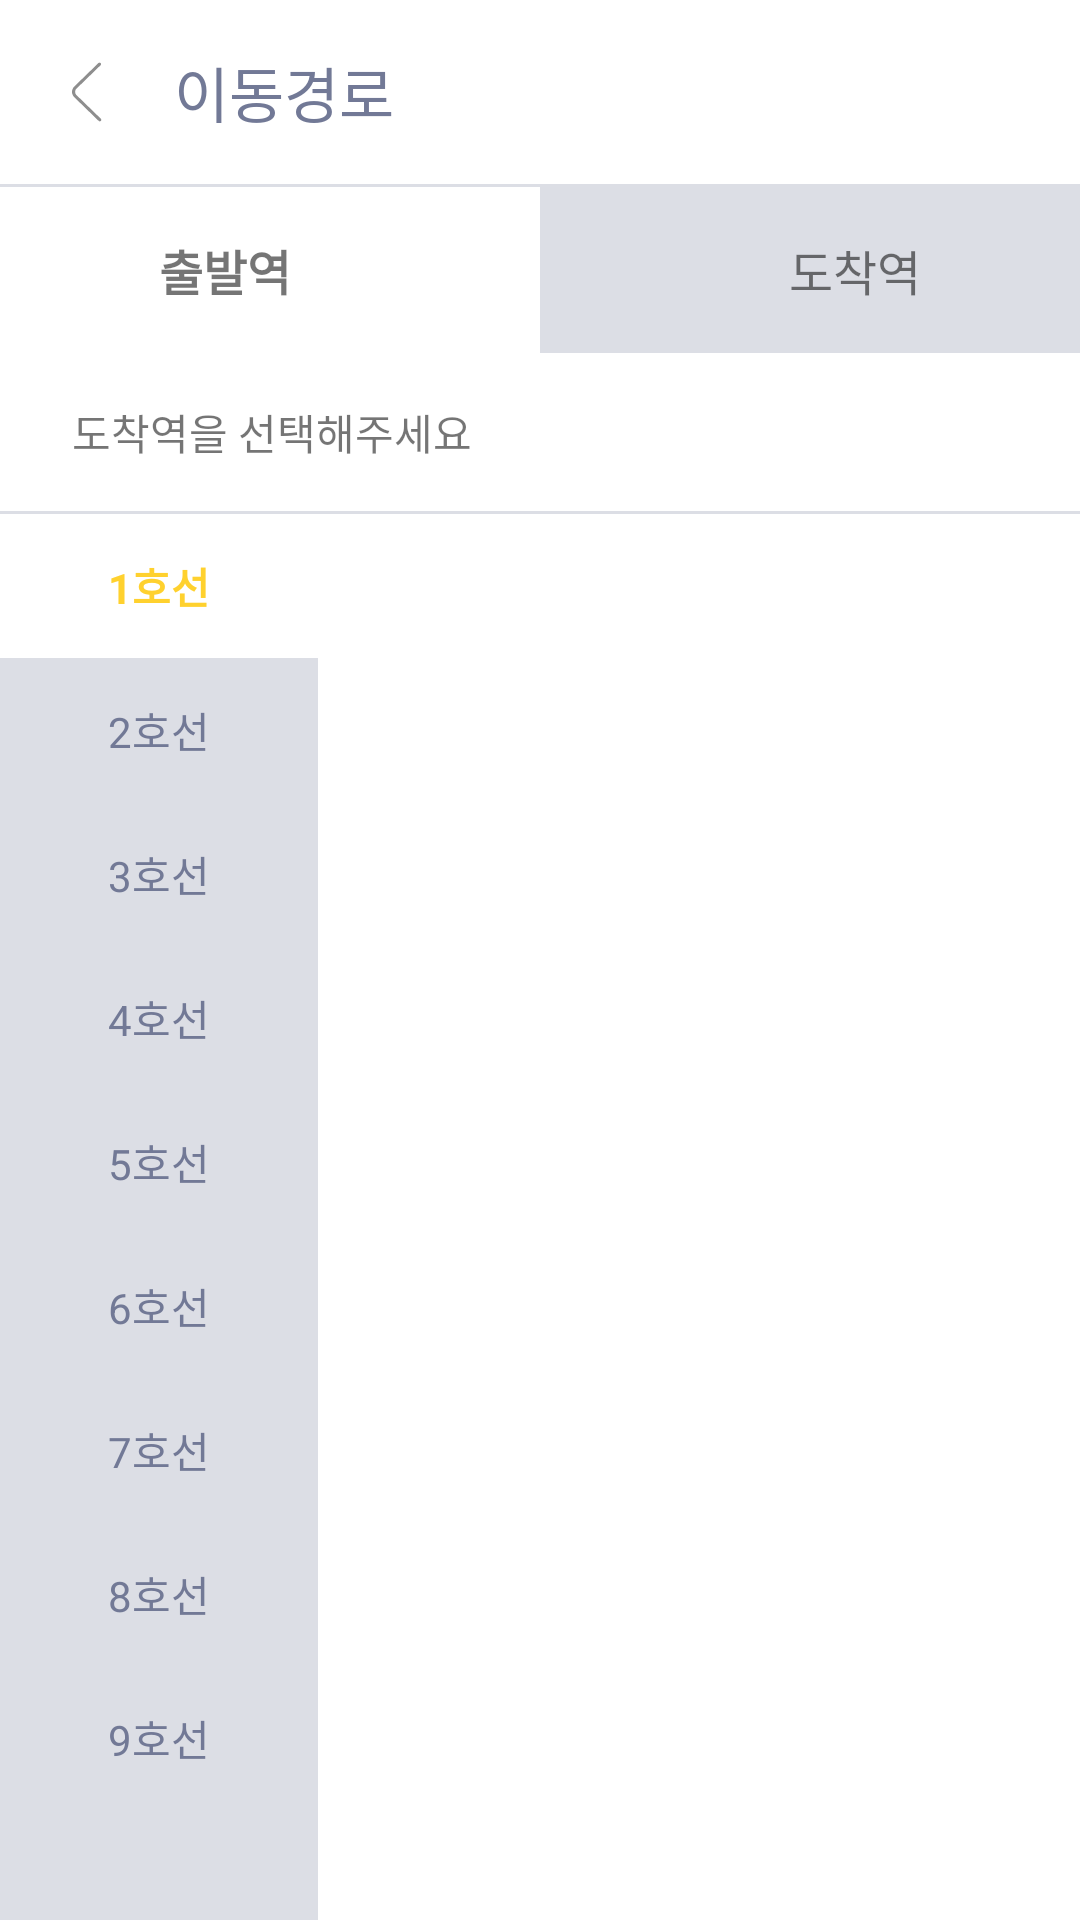

Icons on this 1080×1920 Android screen, each with its box as (x1, y1, x2, y2):
backbutton: (72, 62, 101, 122)
